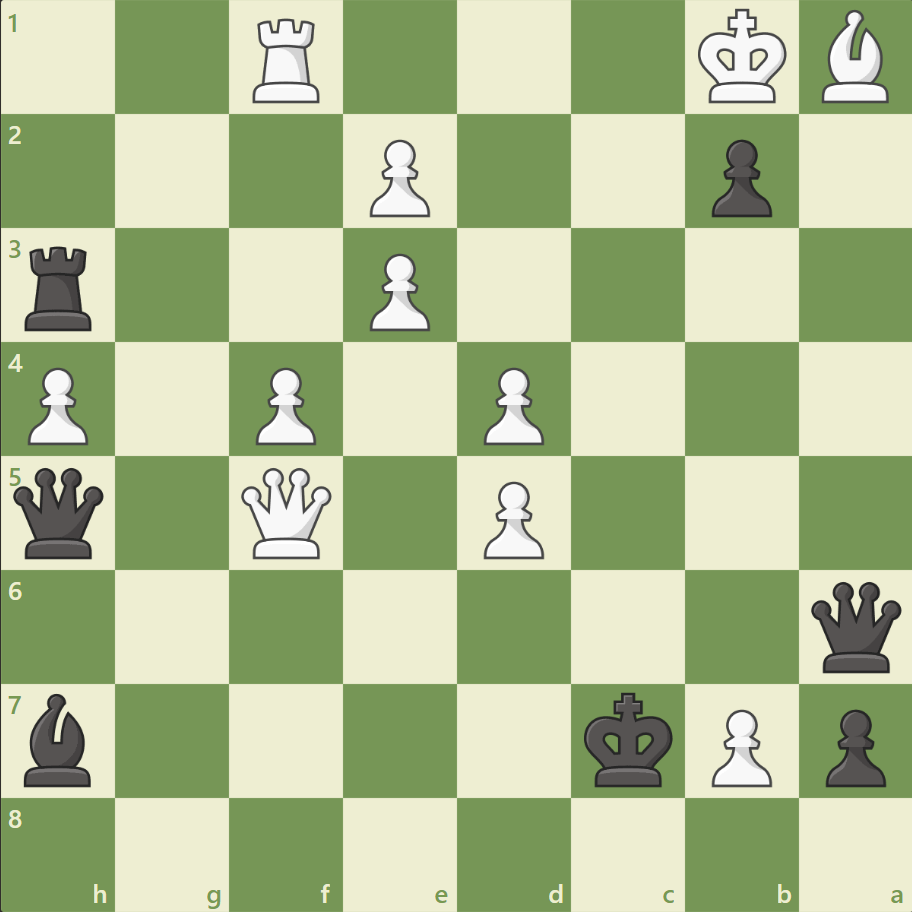B: (812, 6, 896, 109)
K: (692, 4, 792, 112)
P: (701, 700, 776, 791), (474, 473, 549, 564), (474, 359, 549, 450), (247, 359, 322, 450), (20, 359, 95, 450), (361, 246, 435, 337), (361, 132, 435, 223)
Q: (237, 463, 336, 562)
R: (246, 12, 329, 109)
b: (17, 687, 101, 790)
k: (579, 685, 679, 793)
p: (701, 132, 776, 223), (815, 700, 889, 791)
q: (805, 576, 904, 676), (10, 463, 109, 562)
r: (19, 239, 102, 336)
